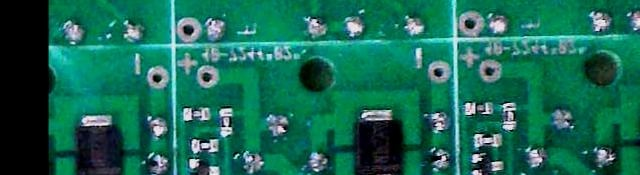chip-resistor: (191, 137, 218, 152), (503, 102, 517, 130), (220, 107, 233, 136), (474, 133, 502, 146), (183, 106, 209, 120), (466, 101, 492, 114)
diode: (354, 109, 400, 175), (74, 115, 121, 175)
transistor: (472, 152, 504, 175), (188, 157, 219, 175)
